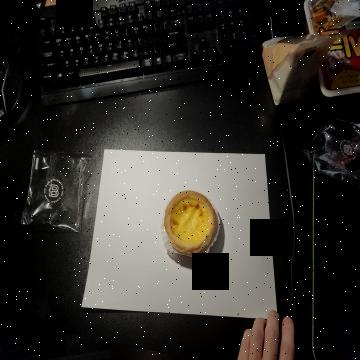EggTart: (162, 189, 218, 254)
